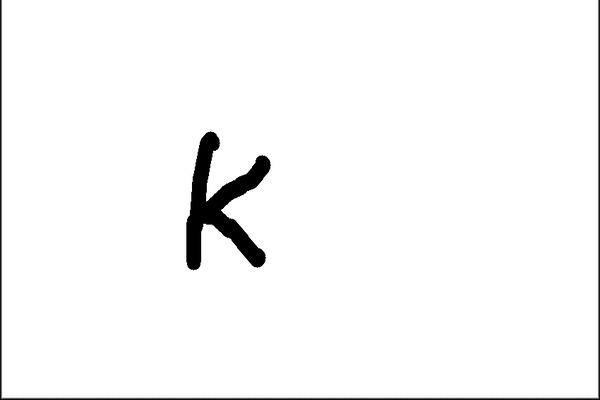K: (181, 125, 276, 276)
